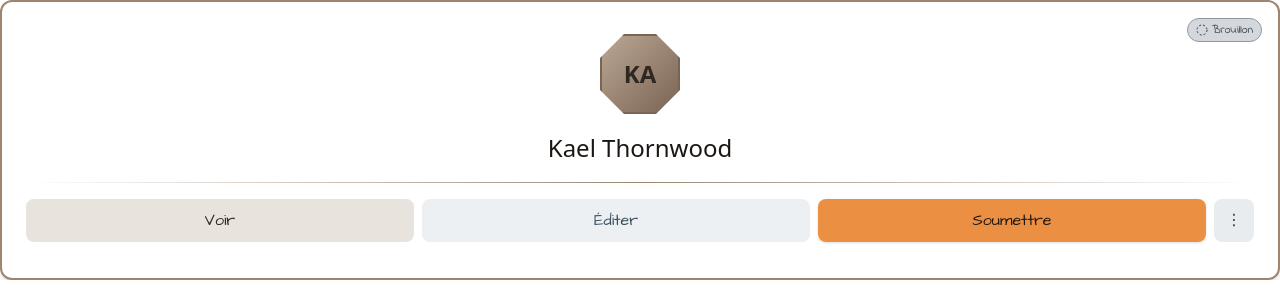
Scenario: CharacterCard — menu "⋮" (plus d'actions) › ouvre le menu au clic sur "⋮"
The width and height of the screenshot is (1280, 302).
Click the button named "plus d'actions": (1234,221) [1214,199,1254,242]
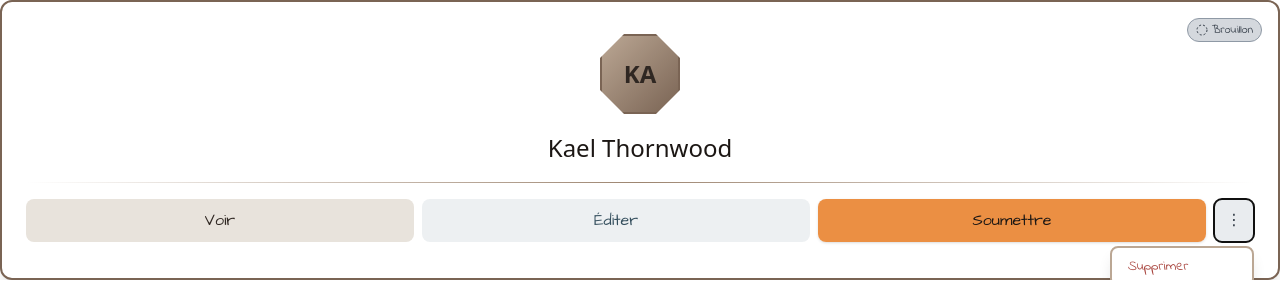
Check: the button "Supprimer" is shown, box [1112,248,1252,285]
